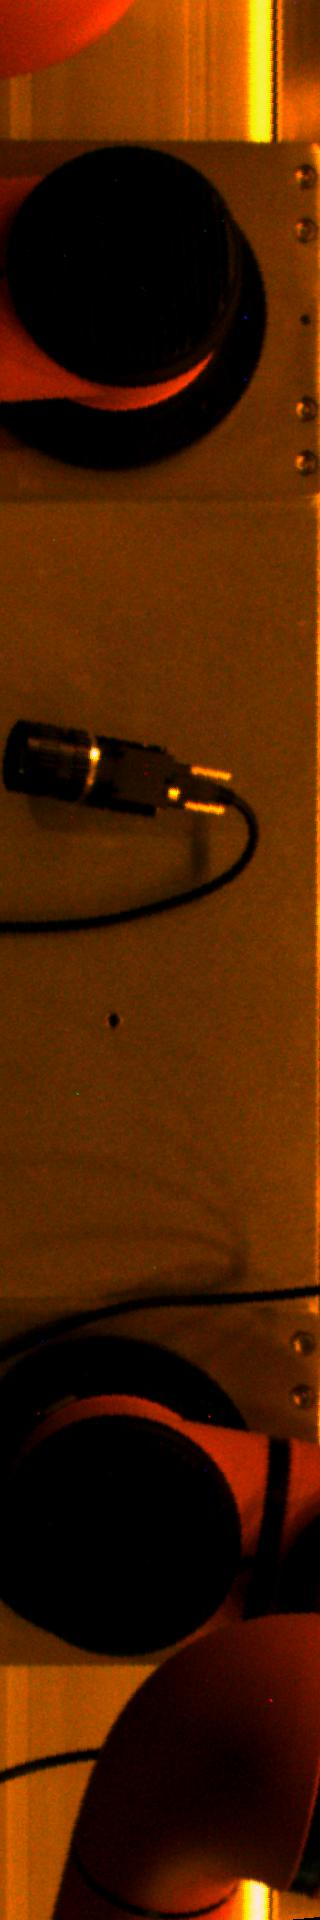keyPoint_2: (98, 1007, 128, 1036)
